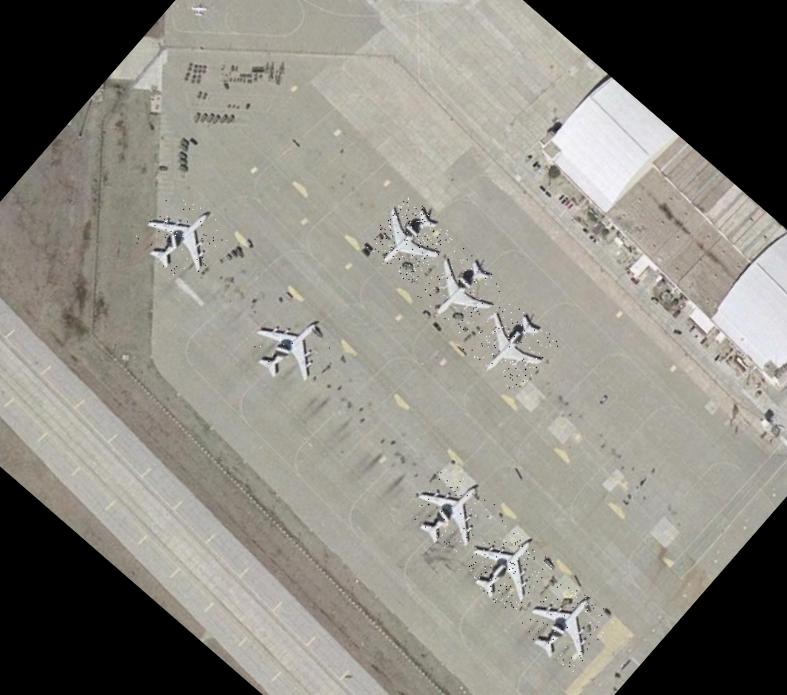A7: (516, 572, 618, 674), (240, 296, 342, 396), (456, 515, 557, 615), (132, 186, 232, 286), (462, 296, 560, 394), (404, 462, 498, 558), (362, 192, 456, 286), (415, 243, 509, 337)
